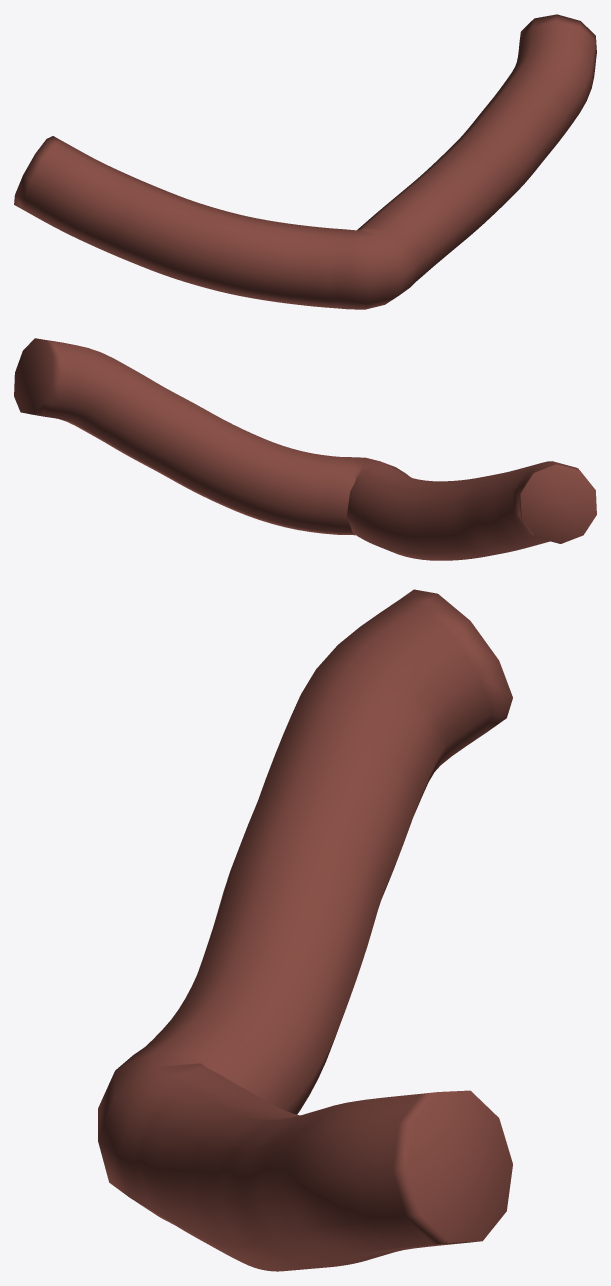
The model's file is 3HT-masculino.glb.
3 views of the same model, one above another, from view 1: azimuth 30°, elevation 25°; view 2: azimuth 150°, elevation 25°; view 3: azimuth 270°, elevation 25° (orthographic). The views are drawn at different scales.
Parts seen in each view (by area): view 1: mouth-relief; view 2: mouth-relief; view 3: mouth-relief.
Boxes of the visible parts, left/top/right/bottom form: mouth-relief: left=14, top=14, right=596, bottom=309; mouth-relief: left=14, top=338, right=596, bottom=560; mouth-relief: left=98, top=589, right=512, bottom=1271.
Bounding box in the file's own units: 0.011 × 0.00322 × 0.00339.
